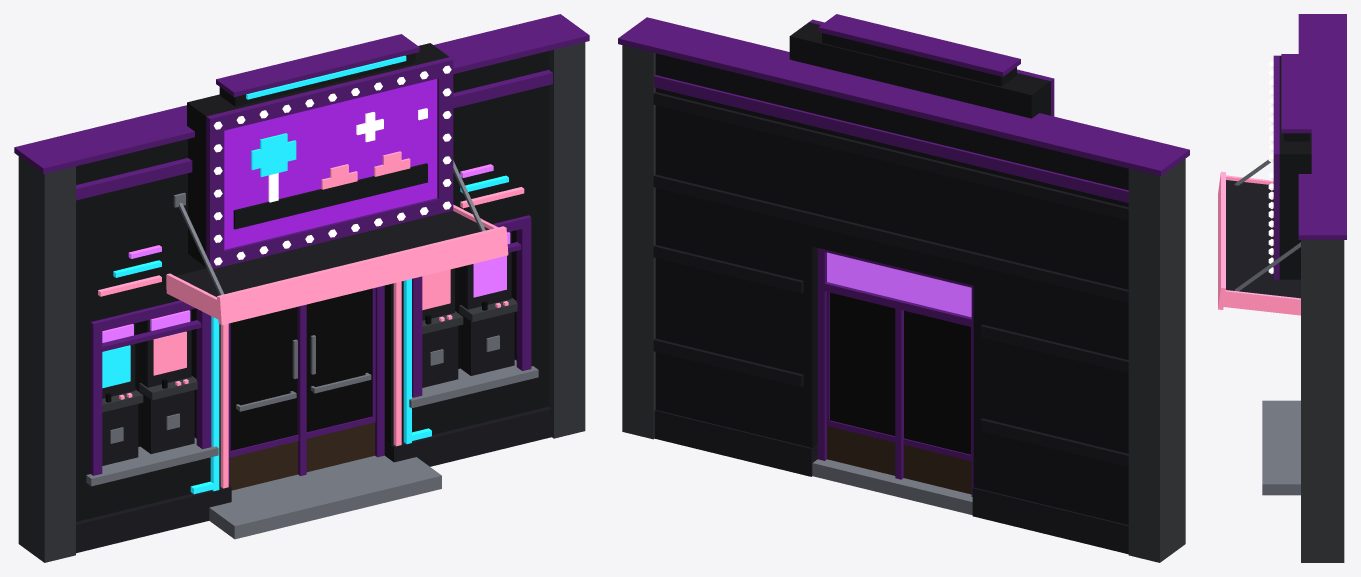
File: facade.glb
3 views of the same model, side by side, from view 1: azimuth 30°, elevation 25°; view 2: azimuth 150°, elevation 25°; view 3: azimuth 270°, elevation 25° (orthographic). The views are drawn at different scales.
Visible parts, largest first — view 1: wall_black, wall_black_light, marquee_neon_purple, doors_black_dark, marquee_neon_purple_dark, wall_neon_purple_dark, cabinets_soot_black, canopy_hot_pink, windows_neon_purple_dark, step_mid_grey, wall_soot_black, marquee_black (+20 smaller); view 2: wall_black, wall_black_light, wall_soot_black, windows_black, wall_neon_purple_dark, doors_black_dark, marquee_black, doors_neon_purple_dark, marquee_neon_purple_dark, doors_dark_wood, doors_neon_purple_light, step_mid_grey; view 3: wall_black_light, wall_neon_purple_dark, canopy_soot_black, marquee_neon_purple_dark, step_mid_grey, marquee_black, canopy_hot_pink, bulbs_warm_white, canopy_mid_grey.
Part boxes in pixels (left/top/right/bottom): wall_black: left=76, top=51, right=548, bottom=521; wall_black_light: left=18, top=42, right=585, bottom=562; marquee_neon_purple: left=224, top=79, right=437, bottom=249; doors_black_dark: left=230, top=288, right=372, bottom=450; marquee_neon_purple_dark: left=206, top=34, right=453, bottom=269; wall_neon_purple_dark: left=14, top=14, right=589, bottom=200; cabinets_soot_black: left=102, top=231, right=514, bottom=465; canopy_hot_pink: left=166, top=204, right=508, bottom=324; windows_neon_purple_dark: left=90, top=215, right=531, bottom=475; step_mid_grey: left=209, top=455, right=441, bottom=539; wall_soot_black: left=76, top=406, right=551, bottom=553; marquee_black: left=187, top=43, right=448, bottom=266; wall_black: left=655, top=53, right=1128, bottom=524; wall_black_light: left=622, top=45, right=1185, bottom=562; wall_soot_black: left=653, top=92, right=1128, bottom=554; windows_black: left=678, top=223, right=1108, bottom=477; wall_neon_purple_dark: left=618, top=17, right=1189, bottom=202; doors_black_dark: left=830, top=292, right=970, bottom=454; marquee_black: left=789, top=22, right=1050, bottom=118; doors_neon_purple_dark: left=817, top=248, right=973, bottom=496; marquee_neon_purple_dark: left=809, top=14, right=1054, bottom=116; doors_dark_wood: left=827, top=426, right=971, bottom=494; doors_neon_purple_light: left=827, top=252, right=971, bottom=317; step_mid_grey: left=812, top=459, right=972, bottom=515; wall_black_light: left=1301, top=240, right=1344, bottom=562; wall_neon_purple_dark: left=1298, top=14, right=1346, bottom=239; canopy_soot_black: left=1226, top=180, right=1300, bottom=298; marquee_neon_purple_dark: left=1273, top=54, right=1311, bottom=279; step_mid_grey: left=1262, top=400, right=1300, bottom=495; marquee_black: left=1279, top=55, right=1311, bottom=279; canopy_hot_pink: left=1218, top=171, right=1300, bottom=315; bulbs_warm_white: left=1268, top=61, right=1273, bottom=273; canopy_mid_grey: left=1234, top=159, right=1300, bottom=291.
Size of the model in its own units: 6.06 by 4.62 by 1.49.
